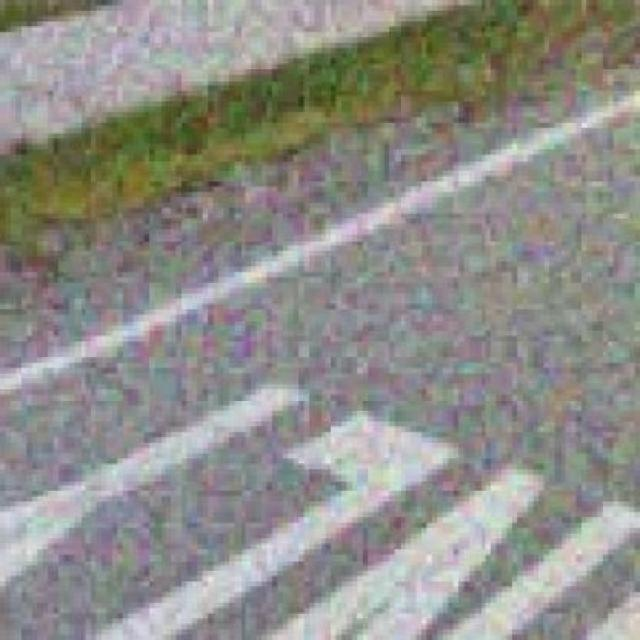crosswalk: (1, 386, 640, 640)
